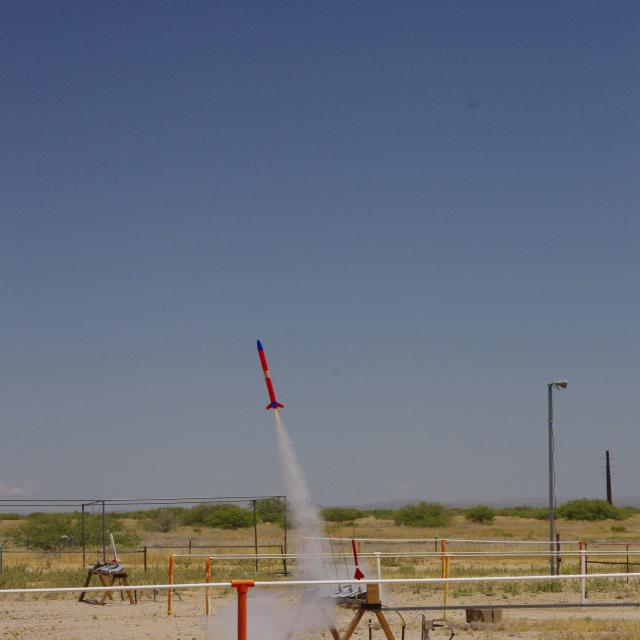Rocket: (256, 339, 284, 410), (352, 539, 364, 580), (110, 534, 120, 562)
